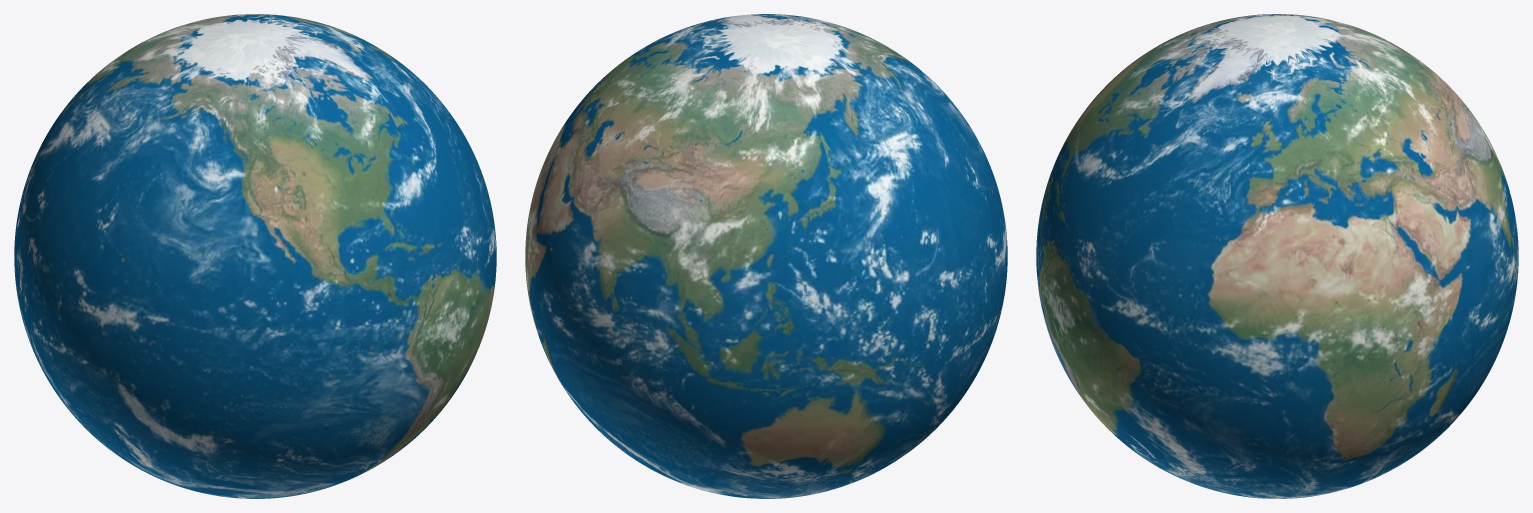
File: earth_compressed.glb
3 views of the same model, side by side, from view 1: azimuth 30°, elevation 25°; view 2: azimuth 150°, elevation 25°; view 3: azimuth 270°, elevation 25° (orthographic).
Parts seen in each view (by area): view 1: Object_4; view 2: Object_4; view 3: Object_4.
Part boxes in pixels (x1,y1,x2,y2): Object_4: (14, 14, 496, 498); Object_4: (525, 14, 1007, 498); Object_4: (1036, 14, 1518, 498).
Bounding box in the file's own units: 2.23 × 2.25 × 2.23.
Materials: 1 (1 with a texture image).
